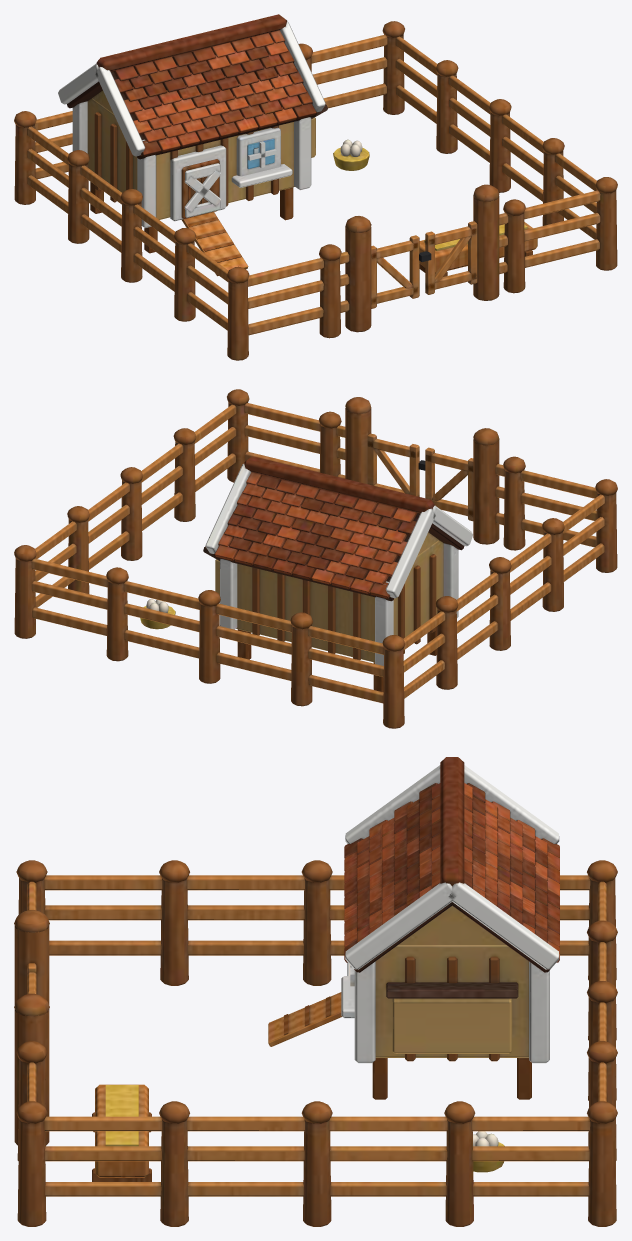
Rendered from turkey_run.glb.
3 renders of one model, top to bottom at view 1: azimuth 30°, elevation 25°; view 2: azimuth 150°, elevation 25°; view 3: azimuth 270°, elevation 25°, orthographic. The views are drawn at different scales.
Visible parts, largest first — view 1: turkey_run; view 2: turkey_run; view 3: turkey_run.
Part boxes in pixels (x1,y1,x2,y2): turkey_run: [14, 14, 617, 360]; turkey_run: [14, 389, 617, 728]; turkey_run: [14, 757, 617, 1226].
Bounding box in the file's own units: 2 × 0.8813 × 2.01.
1 material, 1 textured.
